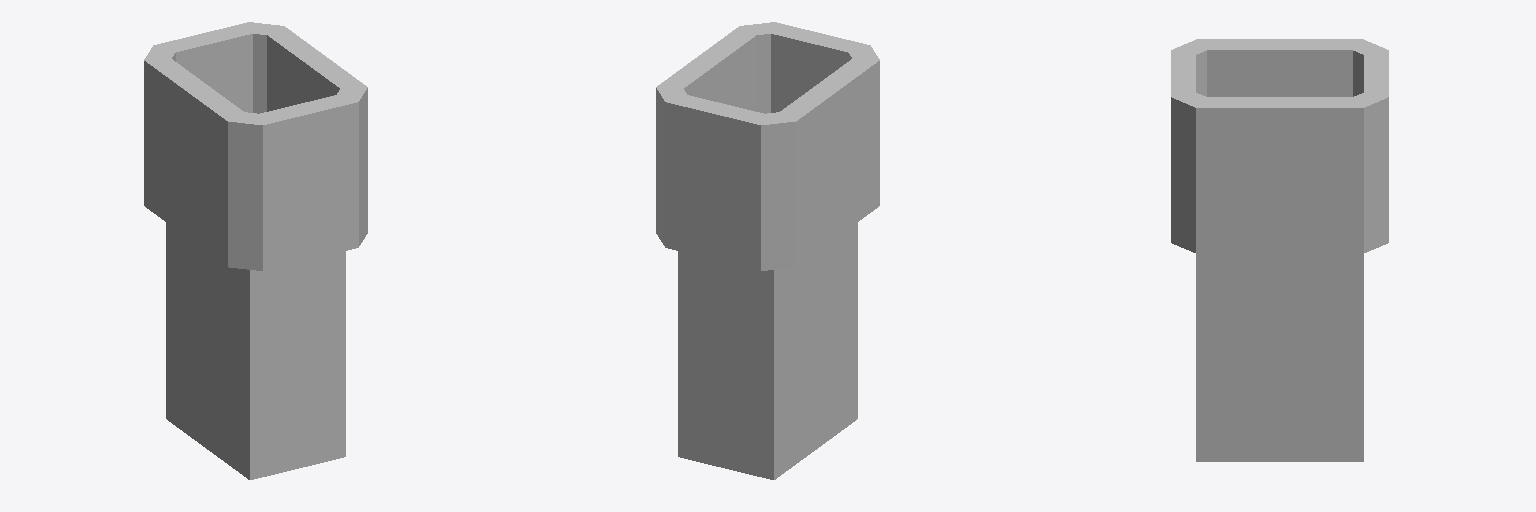
Rendered from chimney-top.obj.
3 views of the same model, side by side, from view 1: azimuth 30°, elevation 25°; view 2: azimuth 150°, elevation 25°; view 3: azimuth 270°, elevation 25° (orthographic).
Parts seen in each view (by area): view 1: chimney-top; view 2: chimney-top; view 3: chimney-top.
Part boxes in pixels (x1,y1,x2,y2): chimney-top: (144, 22, 367, 479); chimney-top: (656, 22, 879, 479); chimney-top: (1171, 39, 1388, 461).
Size of the model in its own units: 0.2519 by 0.625 by 0.34.